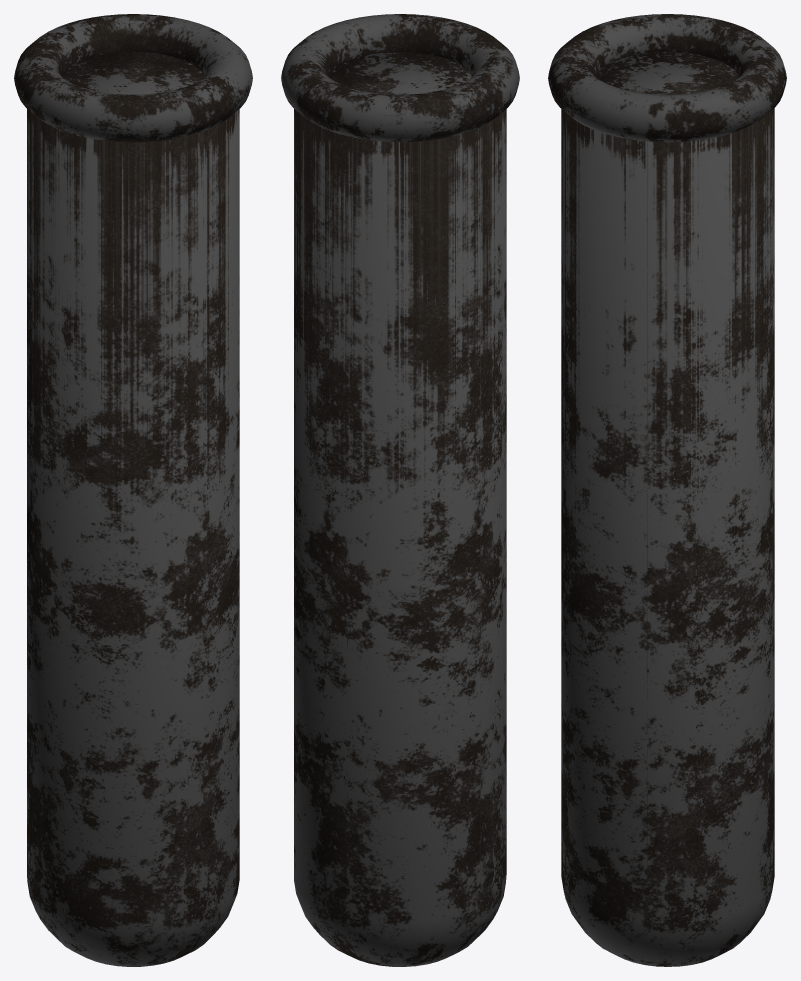
Rendered from probowka6.glb.
The picture shows the model from 3 angles, left to right: view 1: azimuth 30°, elevation 25°; view 2: azimuth 150°, elevation 25°; view 3: azimuth 270°, elevation 25°; orthographic projection.
Parts seen in each view (by area): view 1: Torus.004; view 2: Torus.004; view 3: Torus.004.
Part boxes in pixels (x1=…): Torus.004: x1=14, y1=14, x2=252, y2=966; Torus.004: x1=281, y1=14, x2=519, y2=966; Torus.004: x1=548, y1=14, x2=786, y2=966.
Bounding box in the file's own units: 0.2243 × 0.9208 × 0.2243.
Materials: 1 (1 with a texture image).
